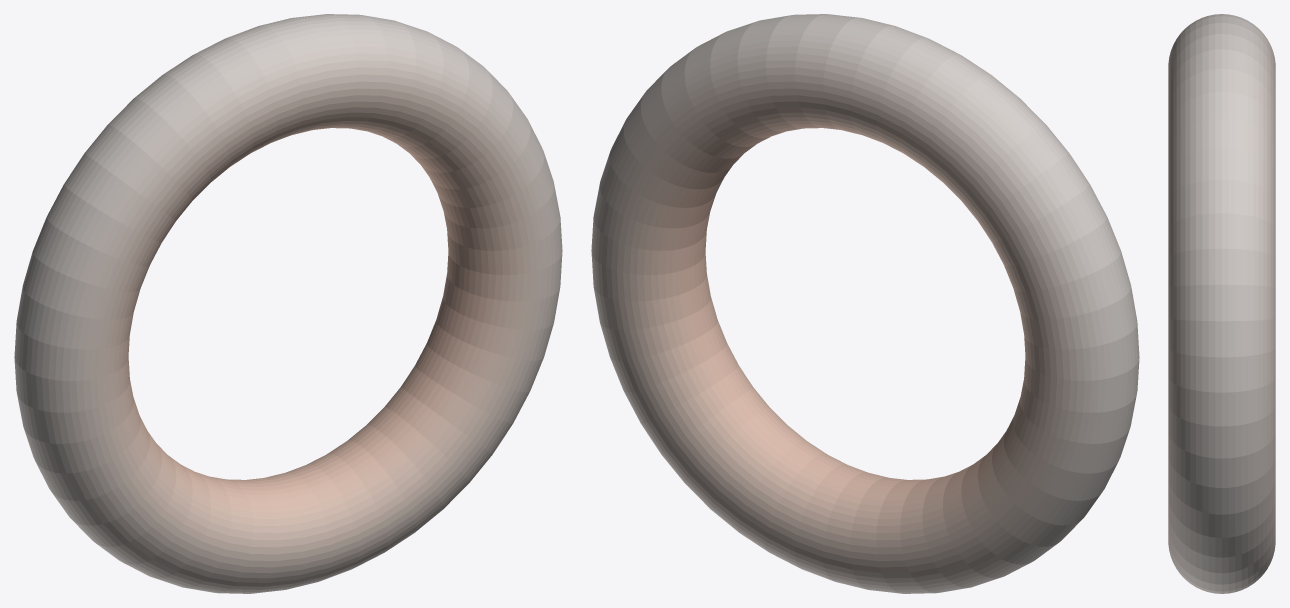
The picture shows the model from 3 angles, left to right: view 1: azimuth 30°, elevation 25°; view 2: azimuth 150°, elevation 25°; view 3: azimuth 270°, elevation 25°; orthographic projection. The views are drawn at different scales.
Parts seen in each view (by area): view 1: world; view 2: world; view 3: world.
Boxes of the visible parts, x1,y1,x2,y2 form: world: [14, 14, 562, 593]; world: [591, 14, 1139, 593]; world: [1168, 14, 1275, 593].
Bounding box in the file's own units: 29.47 × 29.41 × 5.46.
